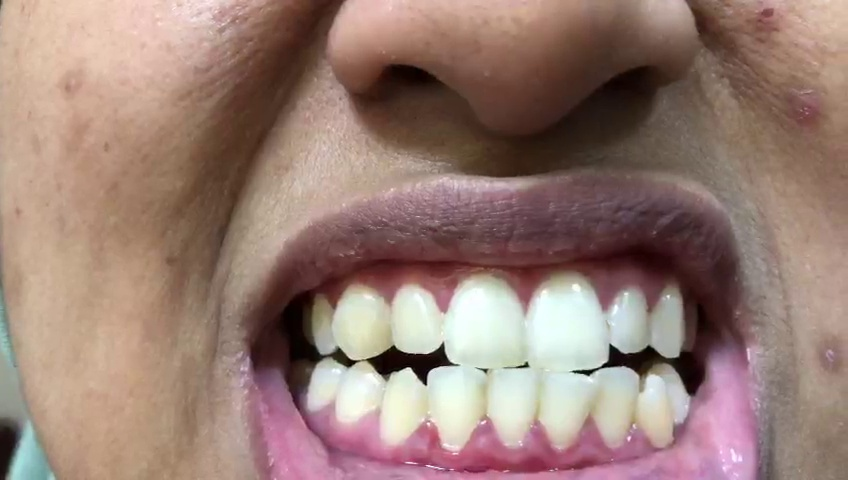1st Premolar: (337, 362, 383, 425), (656, 362, 690, 422), (312, 292, 334, 353)
2nd Premolar: (304, 354, 346, 414)
Canine: (333, 285, 390, 362), (378, 367, 427, 445), (637, 371, 674, 451), (653, 285, 683, 357)
Central Incisor: (527, 271, 611, 372), (444, 272, 527, 367), (542, 367, 595, 454), (487, 370, 541, 451)
Lateral Incisor: (428, 362, 485, 452), (593, 365, 638, 451), (390, 283, 444, 354), (608, 284, 650, 355)
